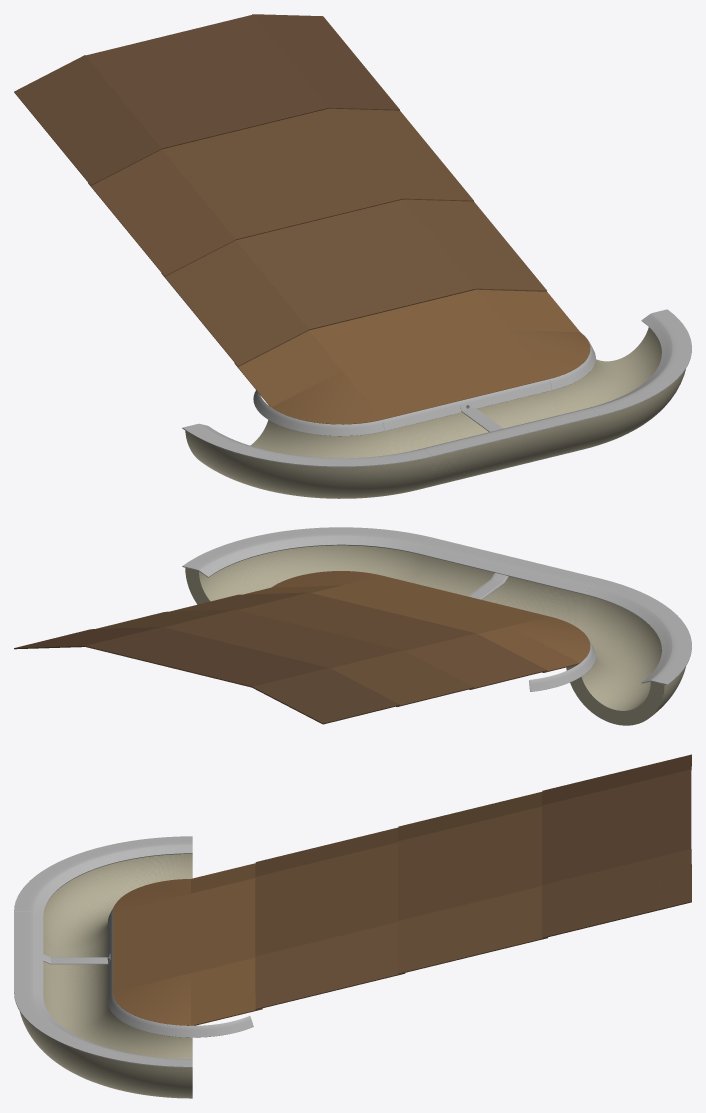
The model's file is Gutters.fbx.
The picture shows the model from 3 angles, top to bottom: view 1: azimuth 30°, elevation 25°; view 2: azimuth 150°, elevation 25°; view 3: azimuth 270°, elevation 25°; orthographic projection. The views are drawn at different scales.
Parts seen in each view (by area): view 1: RoofTile_01, RoofTile_02, RoofTile_03, RoofTile_04, Left_Bend_Gutter, Left_SlantedRoofTile_01, Left_SlantedRoofTile_02, Left_SlantedRoofTile_03, Straight_Gutter, Left_BentRoofTile, Right_SlantedRoofTile_01, Right_SlantedRoofTile_02 (+8 smaller); view 2: Left_Bend_Gutter, Right_Bend_Gutter, RoofTile_01, RoofTile_02, RoofTile_03, RoofTile_04, Straight_Gutter, Right_Bend_GutterGuard, Left_SlantedRoofTile_01, Left_SlantedRoofTile_02, Left_SlantedRoofTile_03, Left_Bend_GutterGuard (+8 smaller); view 3: RoofTile_01, RoofTile_02, RoofTile_04, RoofTile_03, Right_SlantedRoofTile_01, Right_SlantedRoofTile_02, Right_SlantedRoofTile_03, Right_Bend_Gutter, Left_Bend_Gutter, Right_BentRoofTile, Straight_Gutter, Left_Bend_GutterGuard (+8 smaller).
Boxes of the visible parts, x1=… form: RoofTile_01: x1=85, y1=14, x2=328, y2=148; RoofTile_02: x1=162, y1=108, x2=402, y2=239; RoofTile_03: x1=236, y1=199, x2=476, y2=330; RoofTile_04: x1=309, y1=289, x2=549, y2=419; Left_Bend_Gutter: x1=185, y1=420, x2=431, y2=498; Left_SlantedRoofTile_01: x1=14, y1=55, x2=161, y2=185; Left_SlantedRoofTile_02: x1=88, y1=149, x2=235, y2=276; Left_SlantedRoofTile_03: x1=161, y1=240, x2=308, y2=366; Straight_Gutter: x1=383, y1=391, x2=598, y2=489; Left_BentRoofTile: x1=234, y1=331, x2=381, y2=424; Right_SlantedRoofTile_01: x1=252, y1=14, x2=399, y2=110; Right_SlantedRoofTile_02: x1=329, y1=108, x2=473, y2=201; Left_Bend_Gutter: x1=566, y1=596, x2=685, y2=725; Right_Bend_Gutter: x1=185, y1=545, x2=422, y2=604; RoofTile_01: x1=85, y1=627, x2=328, y2=687; RoofTile_02: x1=164, y1=609, x2=402, y2=668; RoofTile_03: x1=238, y1=592, x2=475, y2=650; RoofTile_04: x1=312, y1=575, x2=548, y2=633; Straight_Gutter: x1=414, y1=555, x2=589, y2=628; Right_Bend_GutterGuard: x1=182, y1=527, x2=432, y2=577; Left_SlantedRoofTile_01: x1=252, y1=668, x2=399, y2=724; Left_SlantedRoofTile_02: x1=331, y1=650, x2=473, y2=706; Left_SlantedRoofTile_03: x1=404, y1=633, x2=547, y2=689; Left_Bend_GutterGuard: x1=585, y1=578, x2=691, y2=685; RoofTile_01: x1=542, y1=769, x2=691, y2=884; RoofTile_02: x1=398, y1=806, x2=541, y2=920; RoofTile_04: x1=113, y1=878, x2=255, y2=991; RoofTile_03: x1=255, y1=842, x2=397, y2=956; Right_SlantedRoofTile_01: x1=542, y1=849, x2=691, y2=938; Right_SlantedRoofTile_02: x1=398, y1=886, x2=547, y2=974; Right_SlantedRoofTile_03: x1=255, y1=922, x2=405, y2=1009; Right_Bend_Gutter: x1=19, y1=1000, x2=192, y2=1098; Left_Bend_Gutter: x1=43, y1=854, x2=192, y2=948; Right_BentRoofTile: x1=113, y1=957, x2=262, y2=1025; Straight_Gutter: x1=43, y1=931, x2=108, y2=1028; Left_Bend_GutterGuard: x1=14, y1=836, x2=192, y2=915.
Bounding box in the file's own units: 319 × 125 × 396.
Materials: 2 (2 with a texture image).
